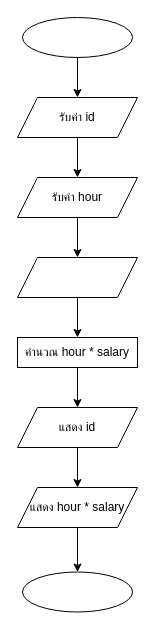
Image size: 155x630. Some labels were removed from this diagram. The centre of each missing label's shape, as x and y in pixels:
"จบ" goes at pixel 77 591.
"รับค่า salary" goes at pixel 77 277.
"เริ่มต้น" goes at pixel 77 37.
